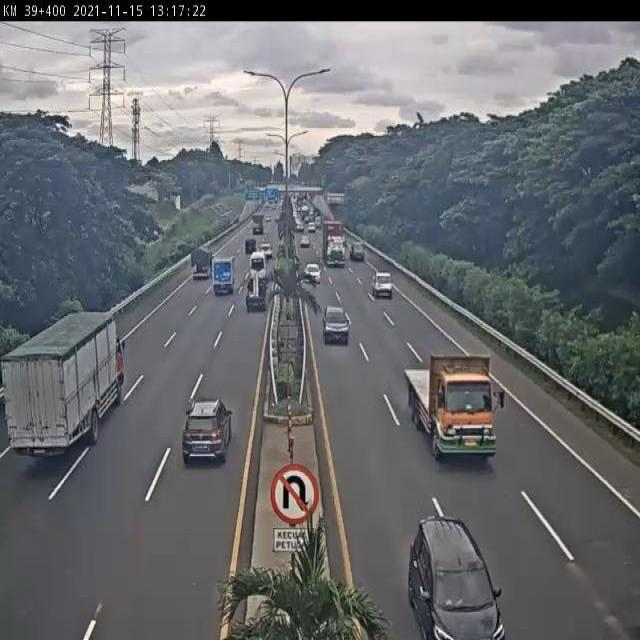big truck: (321, 217, 351, 271)
bus-s-: (247, 249, 271, 279)
car: (181, 398, 233, 466), (321, 304, 353, 344), (303, 260, 322, 285)
small truck: (370, 265, 394, 303)
truck-l-: (405, 345, 498, 468)
truck-m-: (0, 312, 127, 460)
truck-s-: (210, 257, 241, 299), (189, 244, 216, 281), (245, 272, 269, 309)
